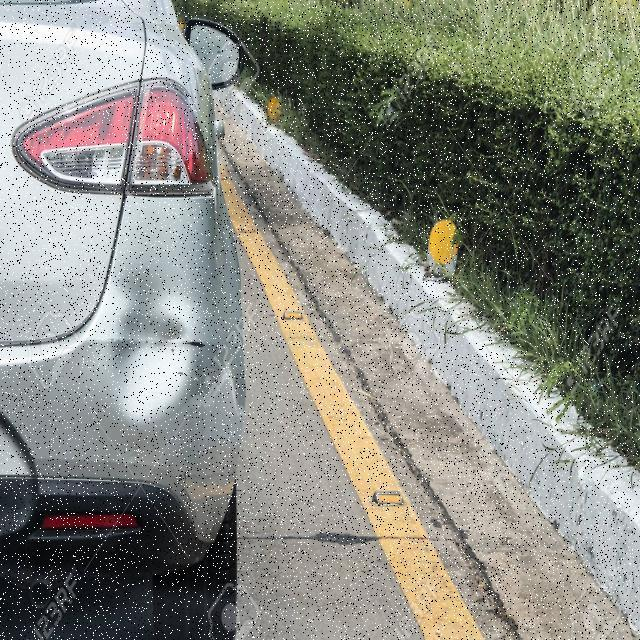rear-bumper-dent: (0, 256, 248, 564)
